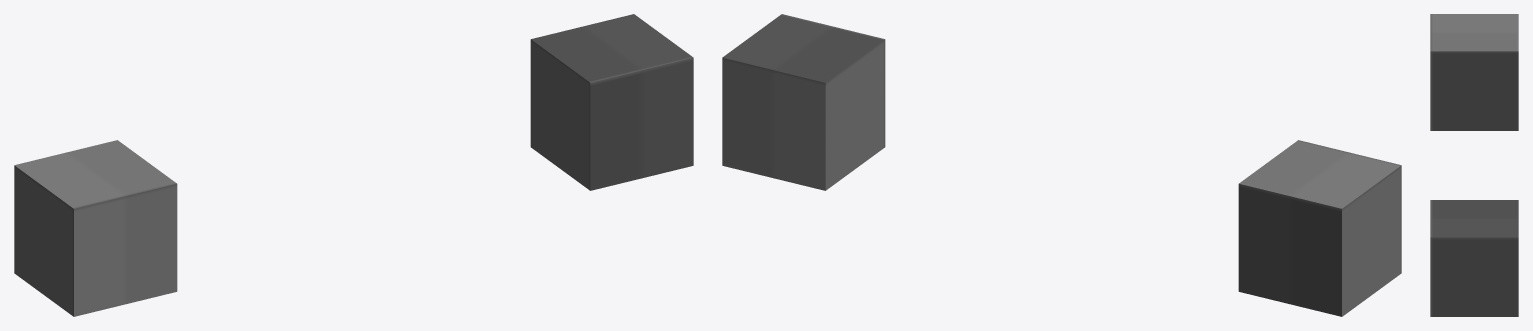
File: tris.obj
3 renders of one model, left to right at view 1: azimuth 30°, elevation 25°; view 2: azimuth 150°, elevation 25°; view 3: azimuth 270°, elevation 25°, orthographic. The views are drawn at different scales.
Visible parts, largest first — view 1: slot1; view 2: slot1; view 3: slot1.
Part boxes in pixels (bbox=[...]): slot1: bbox=[14, 14, 693, 316]; slot1: bbox=[722, 14, 1401, 316]; slot1: bbox=[1430, 14, 1518, 316].
Size of the model in its own units: 6 by 1 by 1.
